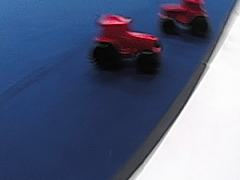Tracktor: (90, 10, 165, 72), (156, 0, 210, 36)
